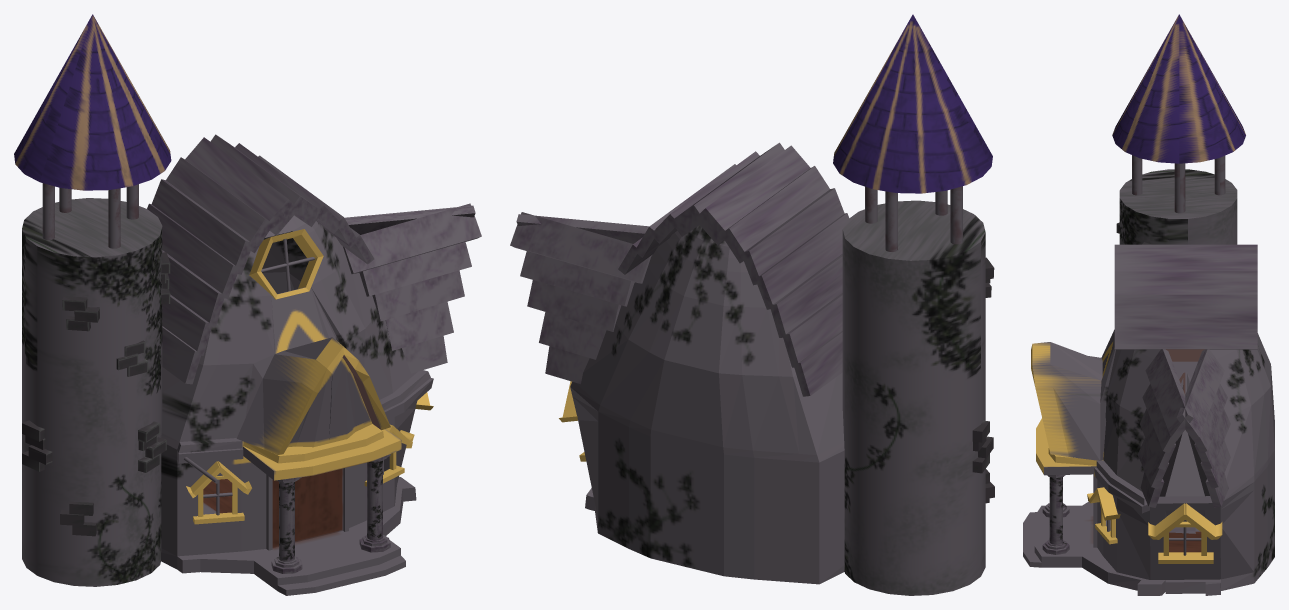
File: archmage hall.fbx
3 views of the same model, side by side, from view 1: azimuth 30°, elevation 25°; view 2: azimuth 150°, elevation 25°; view 3: azimuth 270°, elevation 25° (orthographic). The views are drawn at different scales.
Parts seen in each view (by area): view 1: tower, building, Mage_main_roof, side_roof, bricks, pillar, window_hexa, Window_left, door_pane, Window_right; view 2: tower, building, Mage_main_roof, side_roof, bricks; view 3: building, tower, Mage_main_roof, side_roof, window_mid, pillar, Window_right.
Part boxes in pixels (bbox=[...]): tower: bbox=[14, 14, 171, 586]; building: bbox=[161, 215, 433, 595]; Mage_main_roof: bbox=[147, 134, 374, 384]; side_roof: bbox=[343, 203, 481, 373]; bricks: bbox=[22, 252, 170, 536]; pillar: bbox=[271, 454, 390, 573]; window_hexa: bbox=[249, 229, 323, 299]; Window_left: bbox=[186, 461, 251, 524]; door_pane: bbox=[266, 467, 348, 550]; Window_right: bbox=[364, 424, 414, 486]; tower: bbox=[833, 14, 992, 595]; building: bbox=[570, 225, 844, 584]; Mage_main_roof: bbox=[618, 142, 849, 396]; side_roof: bbox=[510, 212, 651, 384]; bricks: bbox=[972, 257, 994, 503]; building: bbox=[1023, 329, 1274, 595]; tower: bbox=[1112, 14, 1245, 244]; Mage_main_roof: bbox=[1114, 244, 1257, 349]; side_roof: bbox=[1137, 349, 1230, 507]; window_mid: bbox=[1148, 503, 1222, 563]; pillar: bbox=[1042, 475, 1069, 554]; Window_right: bbox=[1087, 487, 1120, 544].
Bounding box in the file's own units: 44.43 × 50.82 × 25.21.
